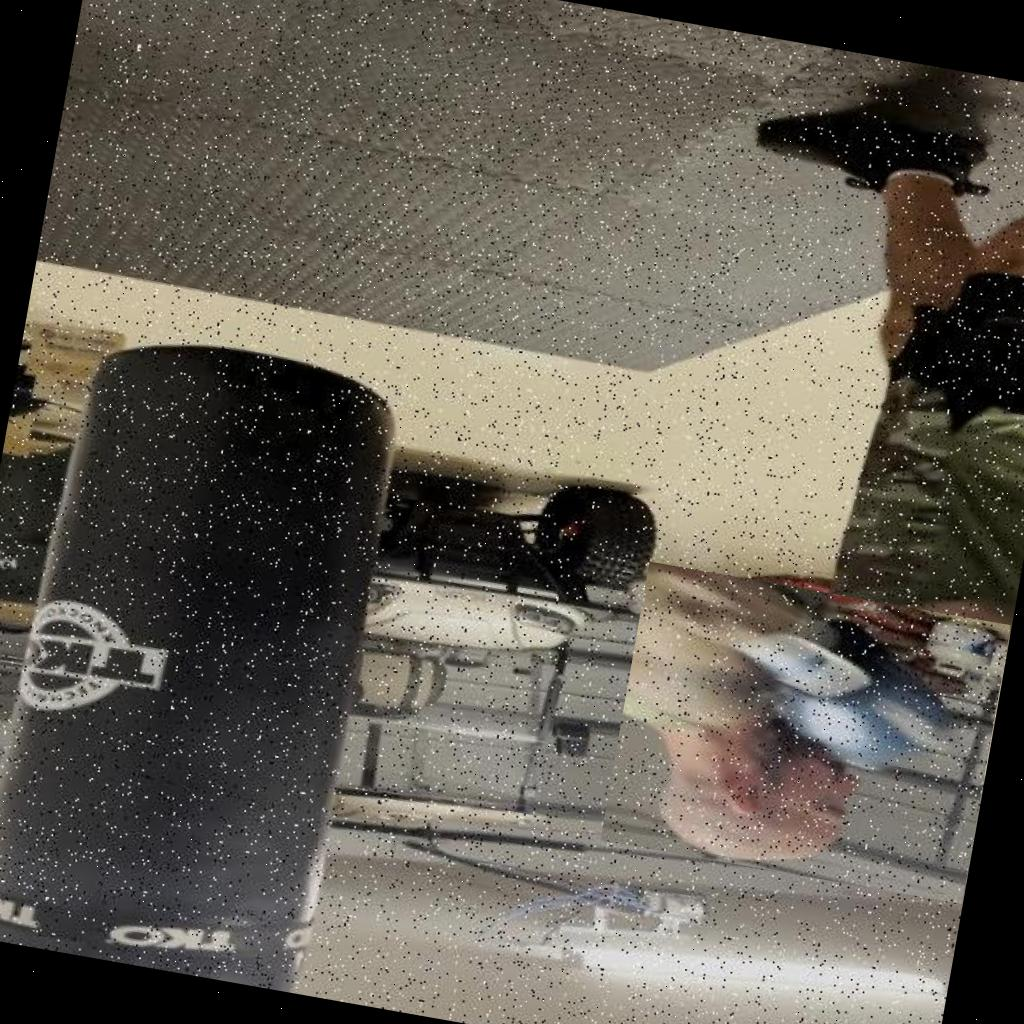bag: (613, 609, 999, 876)
